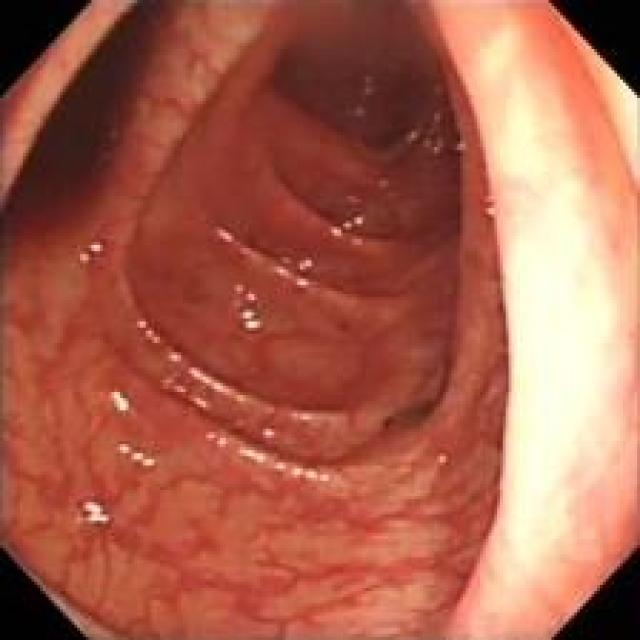blur: (256, 16, 447, 175)
saturation: (475, 28, 630, 611)
specularity: (235, 448, 327, 483), (167, 380, 212, 415), (186, 369, 238, 397), (235, 287, 264, 332), (118, 444, 158, 476), (325, 212, 369, 241), (75, 504, 113, 528), (77, 238, 103, 264), (136, 318, 160, 346), (113, 387, 129, 420), (292, 271, 313, 296), (212, 224, 233, 247), (201, 429, 222, 448), (273, 262, 289, 282), (297, 255, 312, 271), (167, 348, 180, 364), (260, 427, 274, 439)
